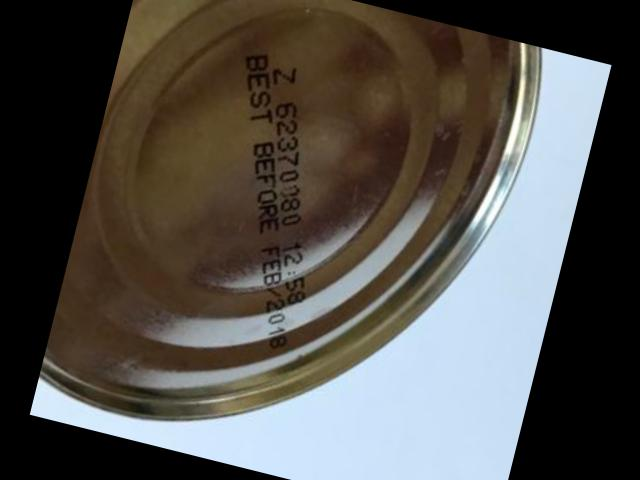metal: (40, 0, 542, 417)
